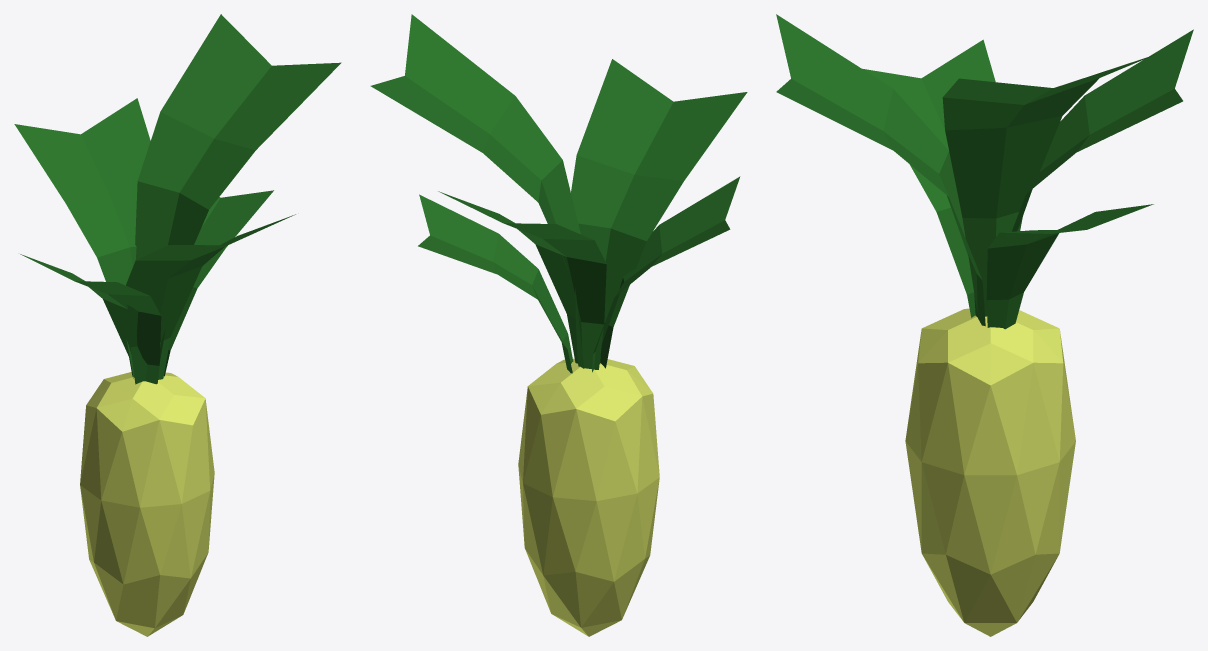
Rendered from Carrot_1.fbx.
The picture shows the model from 3 angles, left to right: view 1: azimuth 30°, elevation 25°; view 2: azimuth 150°, elevation 25°; view 3: azimuth 270°, elevation 25°; orthographic projection. The views are drawn at different scales.
Visible parts, largest first — view 1: Icosphere, Plane.004, Plane.002, Plane, Plane.001, Plane.003; view 2: Icosphere, Plane, Plane.004, Plane.002, Plane.003, Plane.001; view 3: Icosphere, Plane.004, Plane, Plane.002, Plane.001, Plane.003.
Boxes of the visible parts, box(x1,y1,x2,y2) form: Icosphere: box(80, 372, 214, 636); Plane.004: box(135, 14, 341, 360); Plane.002: box(14, 98, 150, 378); Plane: box(126, 214, 295, 384); Plane.001: box(20, 254, 161, 384); Plane.003: box(164, 190, 273, 376); Icosphere: box(518, 358, 659, 636); Plane: box(571, 59, 747, 368); Plane.004: box(370, 14, 583, 368); Plane.002: box(438, 191, 606, 369); Plane.003: box(418, 194, 573, 373); Plane.001: box(592, 176, 740, 372); Icosphere: box(905, 308, 1075, 636); Plane.004: box(942, 55, 1154, 316); Plane: box(776, 14, 985, 326); Plane.002: box(1012, 29, 1193, 231); Plane.001: box(862, 39, 995, 317); Plane.003: box(986, 204, 1153, 329).
Size of the model in its own units: 525 by 864 by 490.
